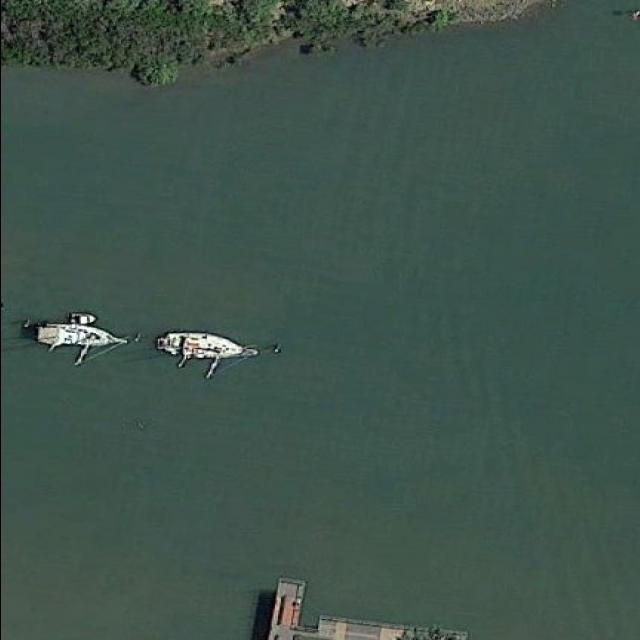ship: (27, 317, 129, 355), (153, 328, 259, 362)
